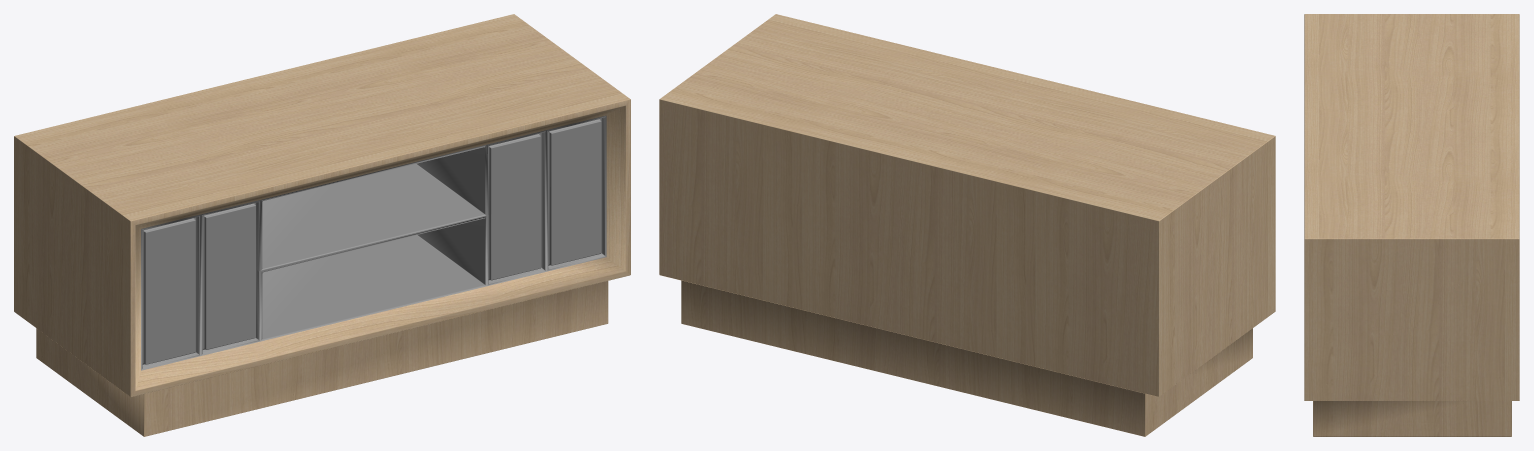
File: tv_table.fbx
3 views of the same model, side by side, from view 1: azimuth 30°, elevation 25°; view 2: azimuth 150°, elevation 25°; view 3: azimuth 270°, elevation 25° (orthographic). The views are drawn at different scales.
Visible parts, largest first — view 1: tv_table; view 2: tv_table; view 3: tv_table.
Boxes of the visible parts, left/top/right/bottom form: tv_table: left=14, top=14, right=630, bottom=436; tv_table: left=659, top=14, right=1275, bottom=436; tv_table: left=1304, top=14, right=1519, bottom=436.
Bounding box in the file's own units: 107 × 45.81 × 43.28.
